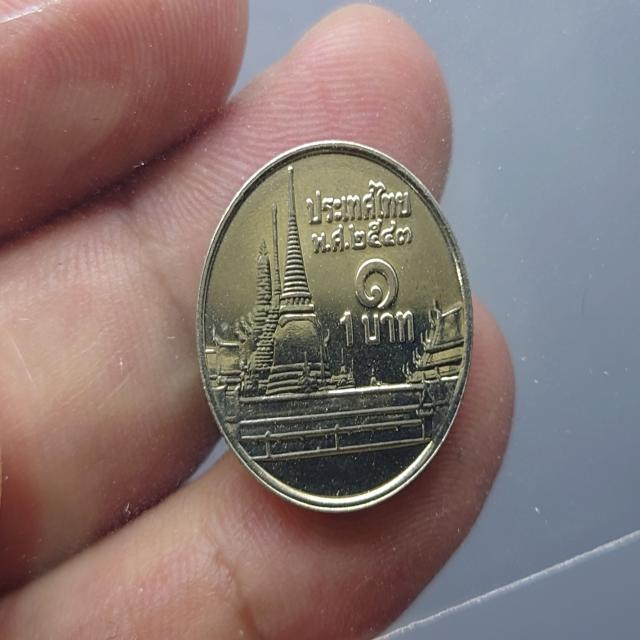1 Bath: (190, 132, 481, 531)
